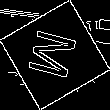M_E: (25, 27, 85, 83)
